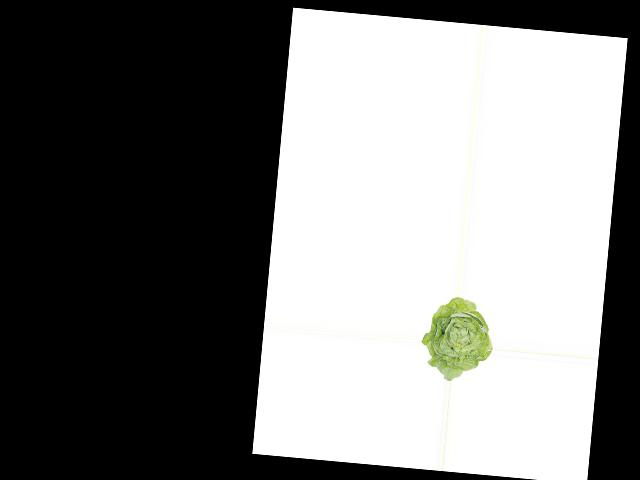lettuce: (418, 293, 496, 382)
